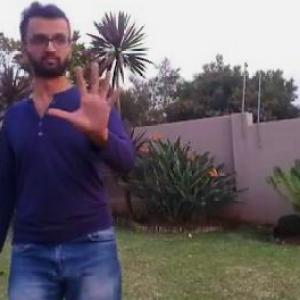follow_hand: (47, 57, 126, 138)
